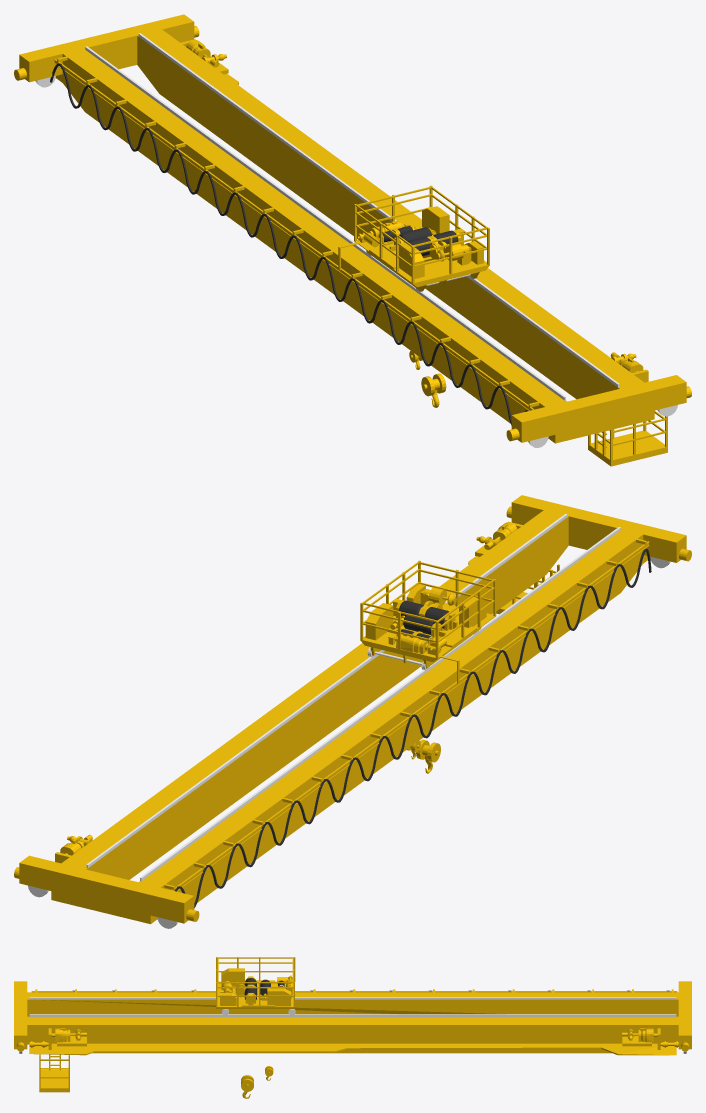
3 views of the same model, one above another, from view 1: azimuth 30°, elevation 25°; view 2: azimuth 150°, elevation 25°; view 3: azimuth 270°, elevation 25° (orthographic). The views are drawn at different scales.
Parts seen in each view (by area): view 1: 3_Bay_C_172_Body, 3_Bay_C_172_Head; view 2: 3_Bay_C_172_Body, 3_Bay_C_172_Head; view 3: 3_Bay_C_172_Body, 3_Bay_C_172_Head.
Boxes of the visible parts, x1,y1,x2,y2 form: 3_Bay_C_172_Body: [14, 14, 691, 466]; 3_Bay_C_172_Head: [338, 185, 489, 407]; 3_Bay_C_172_Body: [14, 495, 691, 928]; 3_Bay_C_172_Head: [360, 560, 496, 773]; 3_Bay_C_172_Body: [14, 981, 691, 1092]; 3_Bay_C_172_Head: [216, 957, 295, 1098].
Size of the model in its own units: 7.27 by 7.26 by 35.2.
